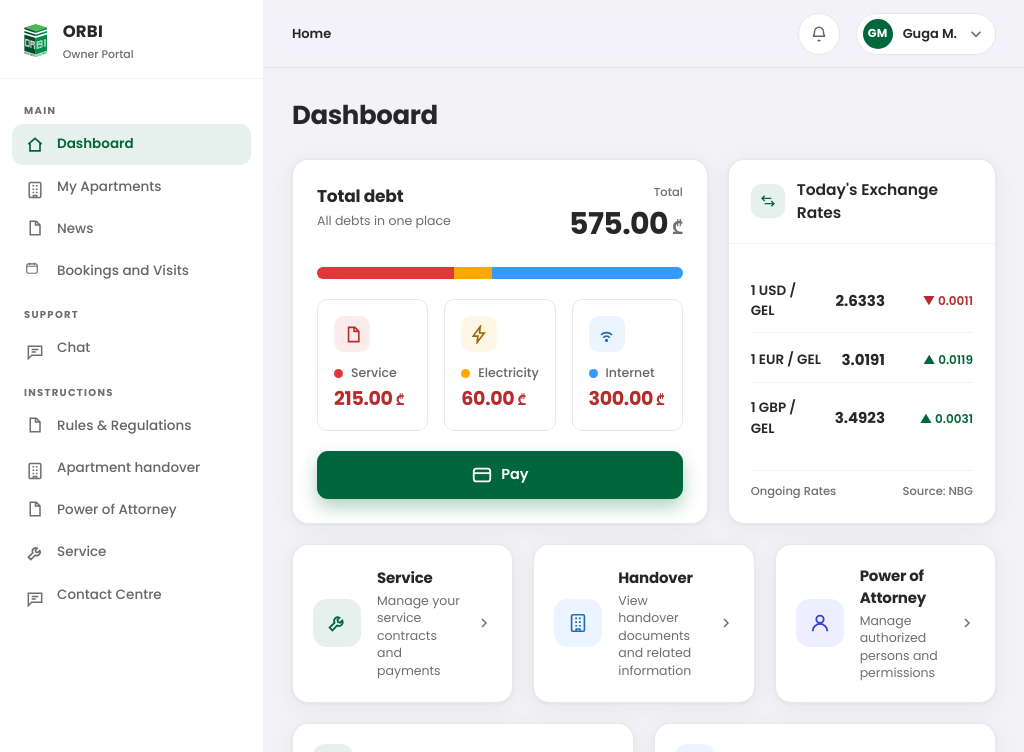
Scenario: the header bell › an account with nothing to report gets an explanation, not a blank panel
Click the button named "notification" at (819,34), box [798,12,840,54]
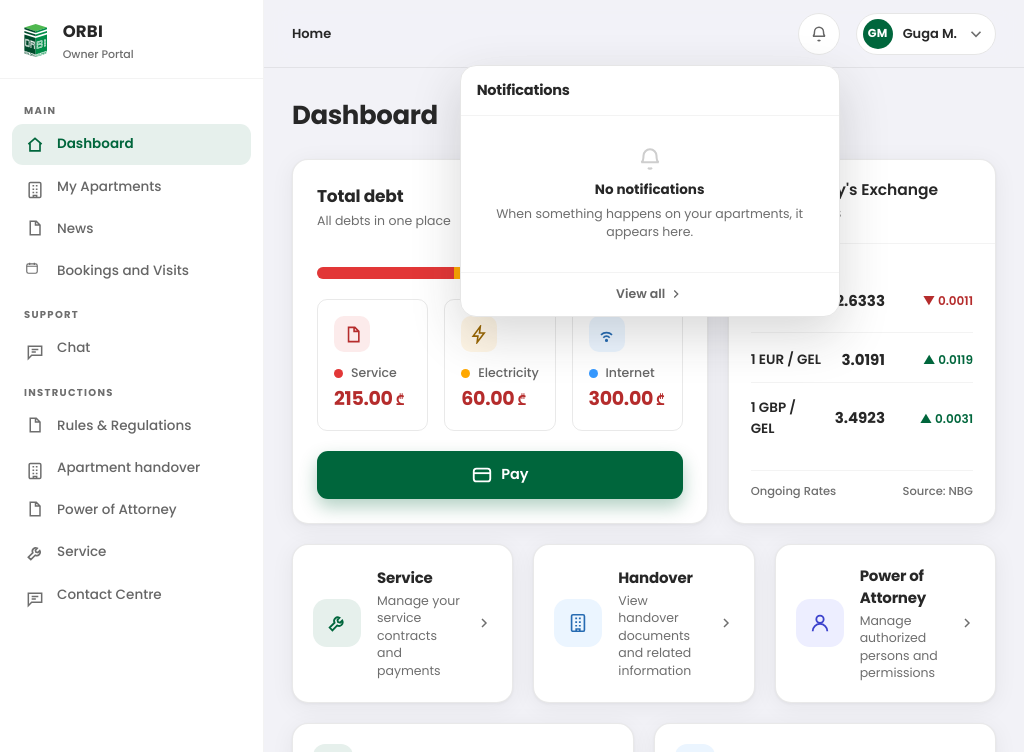
expect the text "No notifications" is shown: met, box [595,180,704,201]
